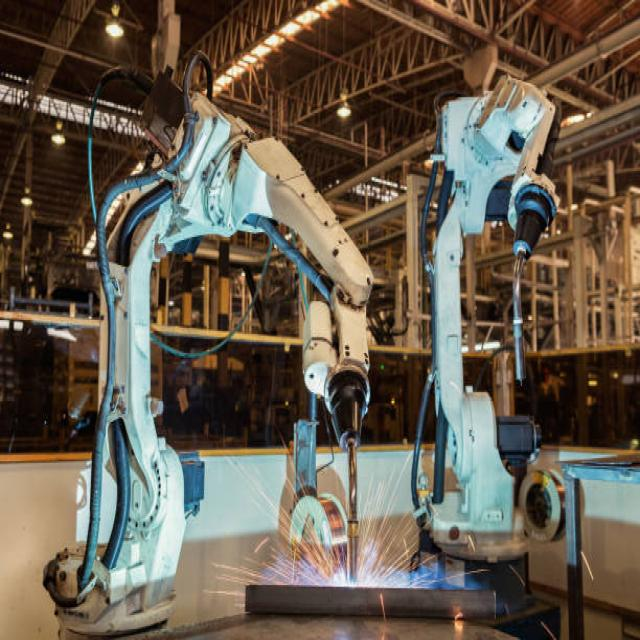Robotic-arm: (80, 71, 381, 640), (425, 67, 579, 579)
